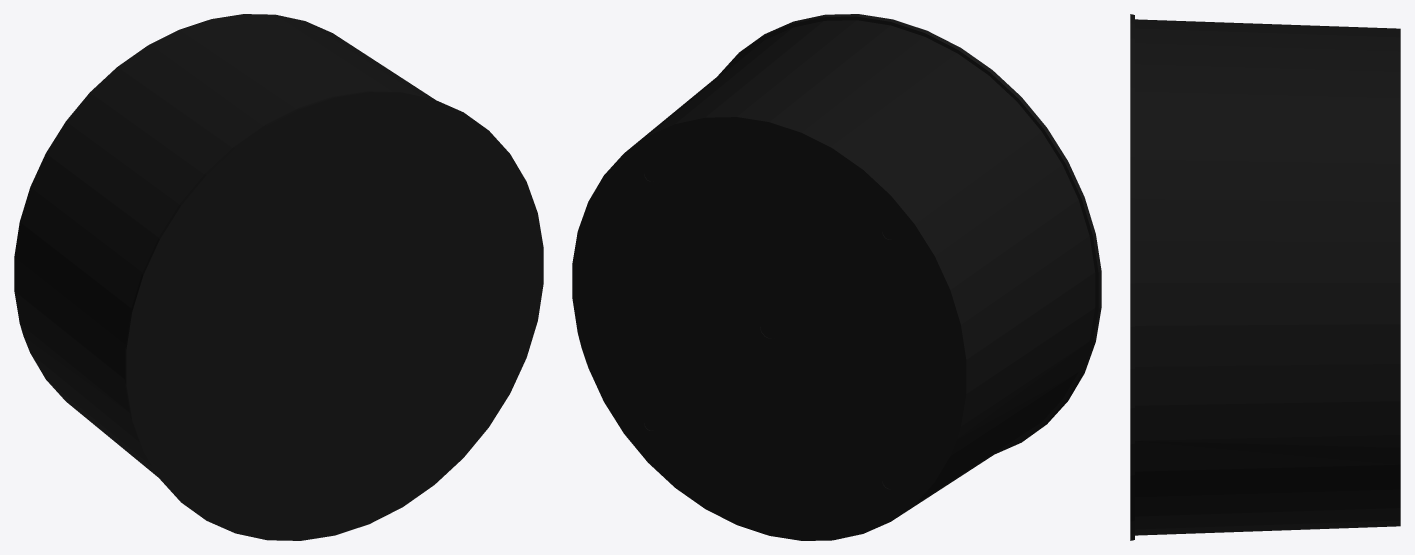
The model's file is lidar_mid_link.dae.
3 renders of one model, left to right at view 1: azimuth 30°, elevation 25°; view 2: azimuth 150°, elevation 25°; view 3: azimuth 270°, elevation 25°, orthographic. The views are drawn at different scales.
Visible parts, largest first — view 1: lidar_mid_link; view 2: lidar_mid_link; view 3: lidar_mid_link.
Part boxes in pixels (bbox=[...]): lidar_mid_link: bbox=[14, 14, 543, 540]; lidar_mid_link: bbox=[572, 14, 1101, 540]; lidar_mid_link: bbox=[1130, 14, 1400, 540].
Bounding box in the file's own units: 0.1102 × 0.0566 × 0.1106.
Materials: 1 (1 with a texture image).
